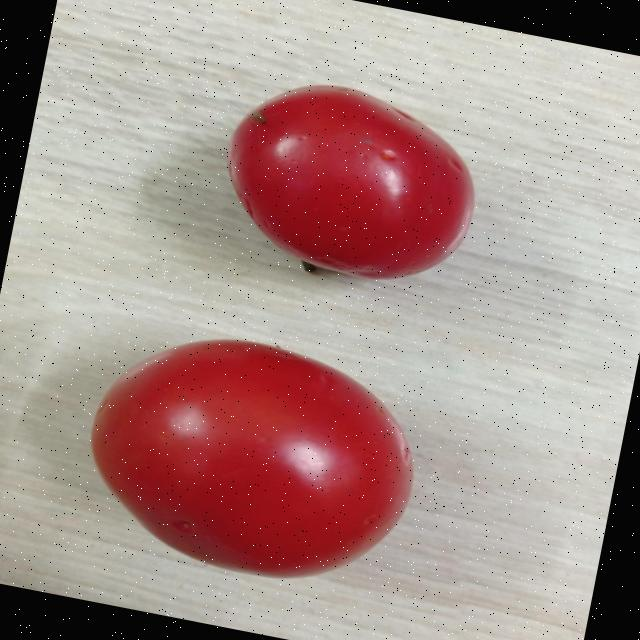Ripe: (65, 310, 439, 604), (205, 63, 496, 304)
